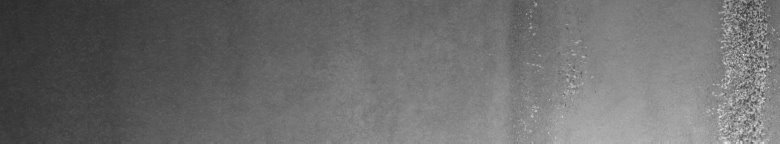hc: (706, 4, 776, 136)
